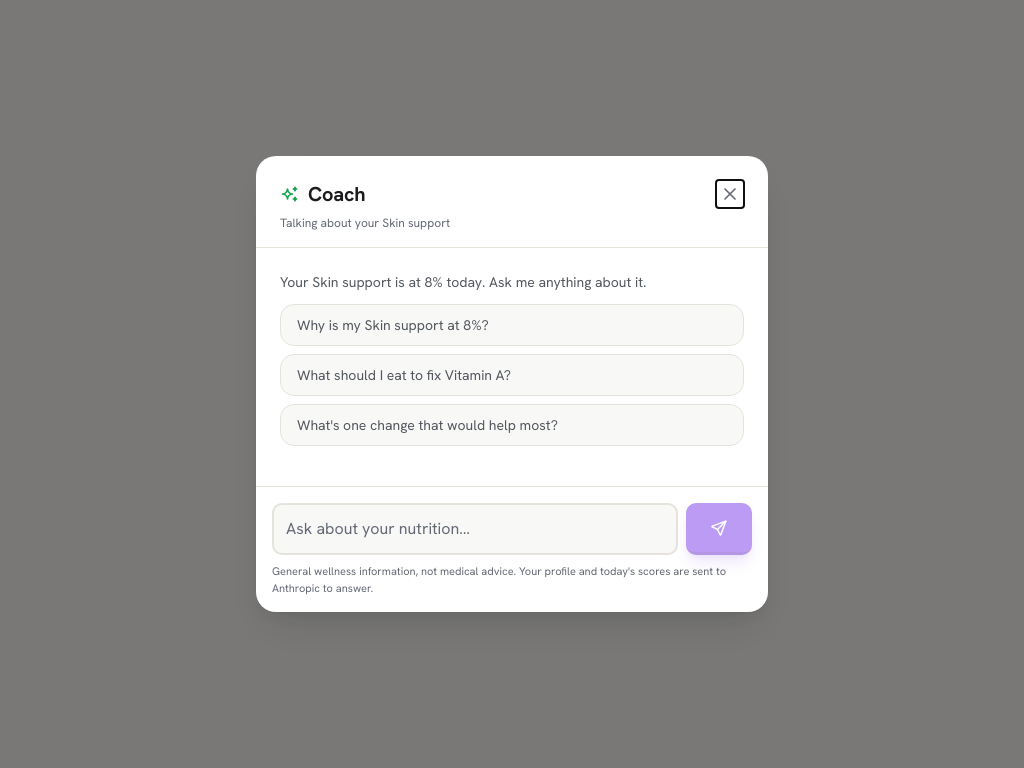
Coach — safety screen › blocks medication questions without showing crisis resources
Type "should I stop taking my metformin" into the field named "Message the coach". click: (475, 529)
box: top-left (272, 503), bottom-right (678, 555)
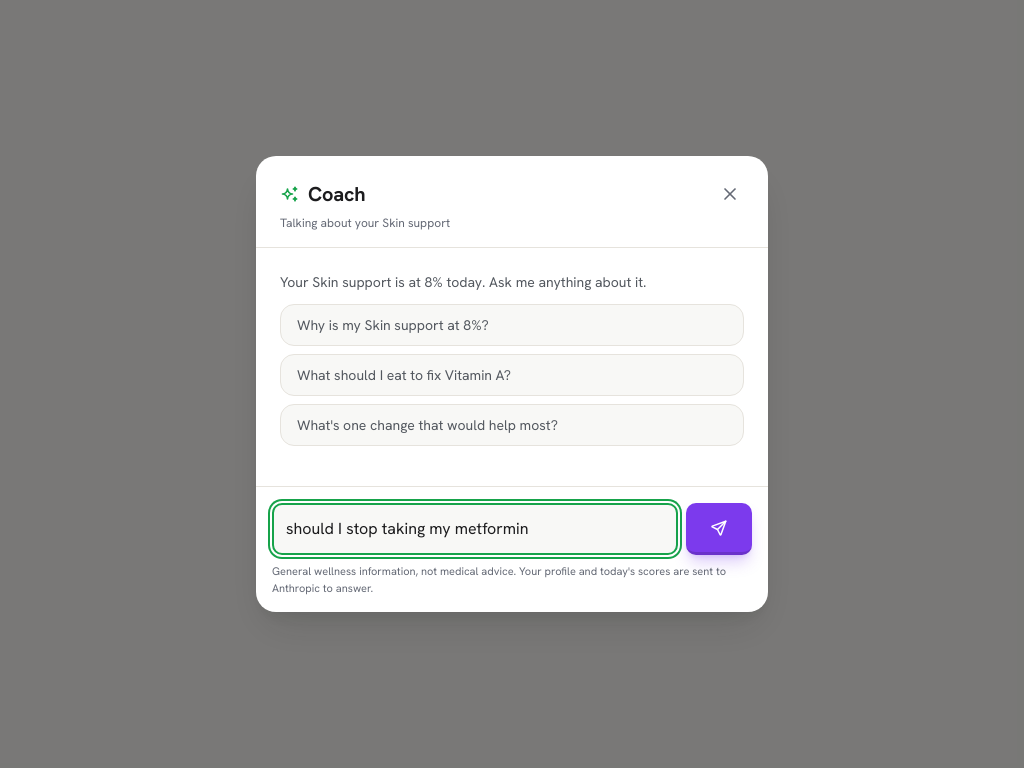
Click the button named "Send". click: click(719, 529)
box: top-left (686, 503), bottom-right (752, 555)
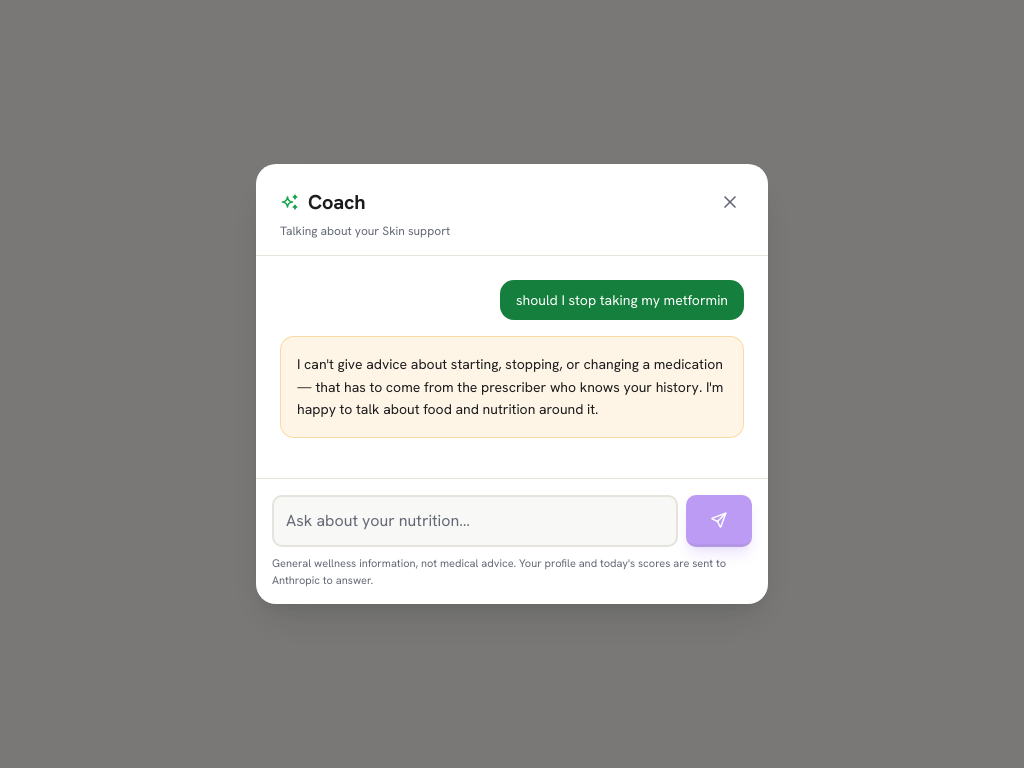
Now the text "prescriber" is shown, box top-left (297, 355), bottom-right (723, 418)
